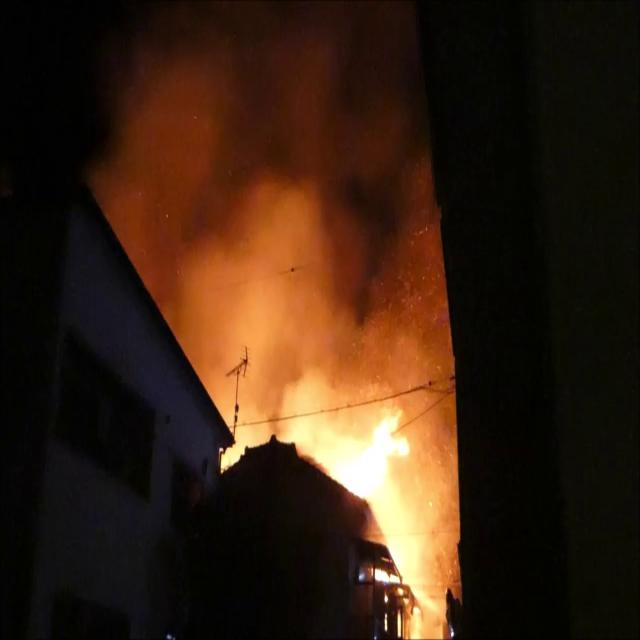Fire: (328, 393, 450, 635)
Smoke: (66, 2, 466, 408)
